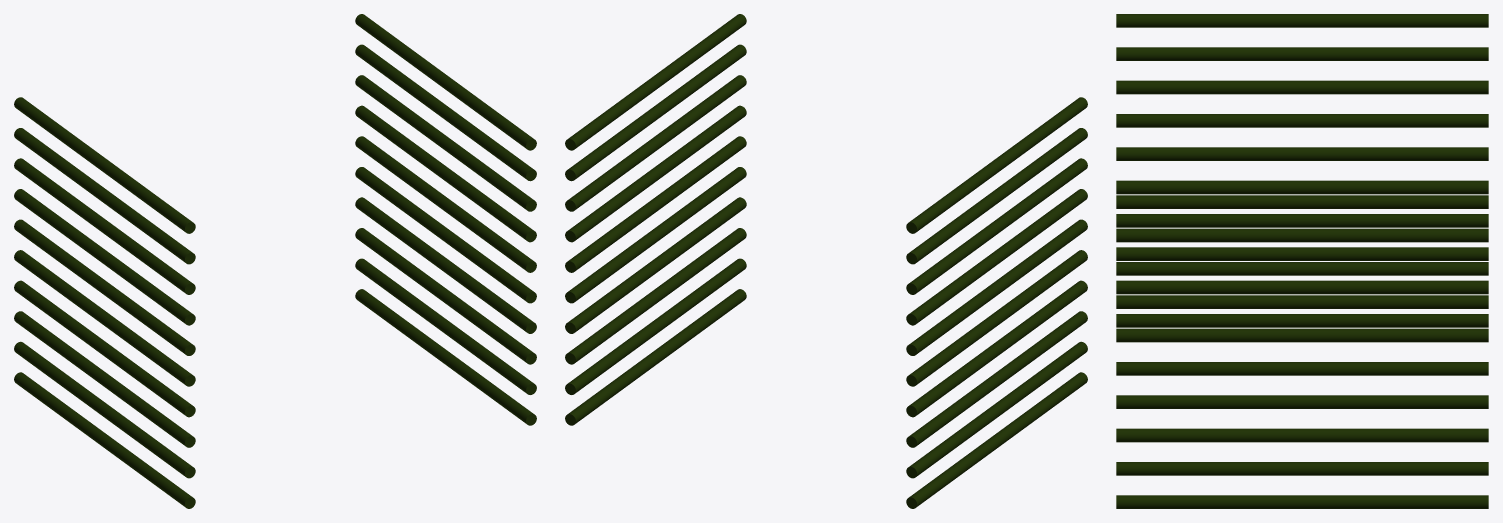
3 renders of one model, left to right at view 1: azimuth 30°, elevation 25°; view 2: azimuth 150°, elevation 25°; view 3: azimuth 270°, elevation 25°, orthographic. The views are drawn at different scales.
Size of the model in its own units: 0.0214 by 0.0167 by 0.018.
